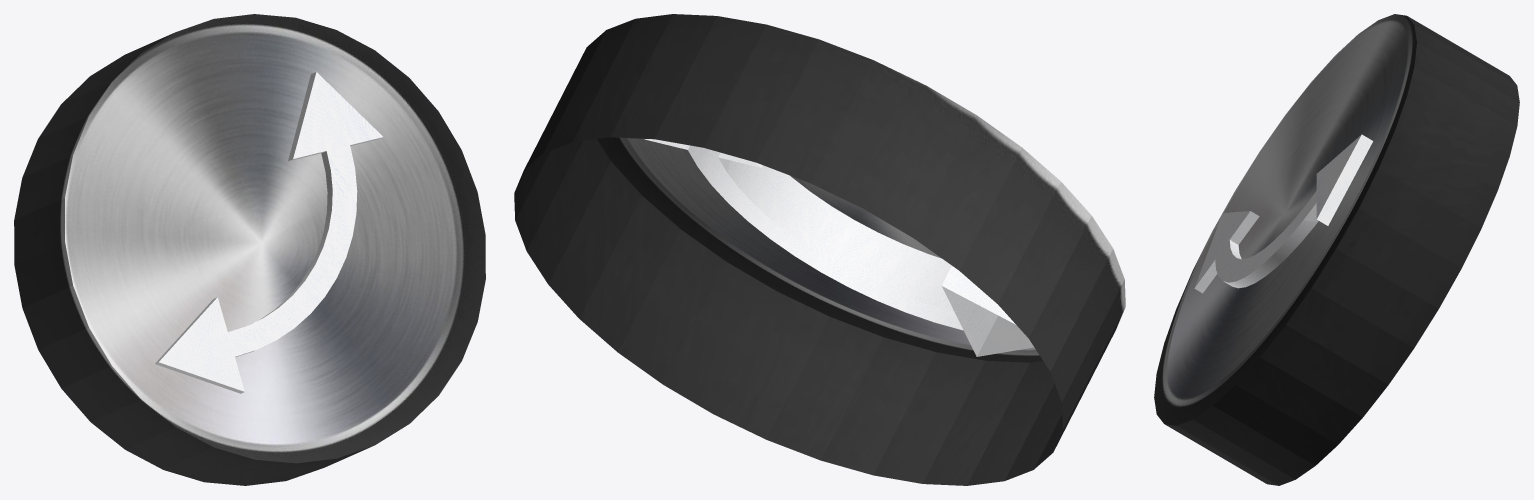
The model's file is Botao_Girar_Esquerda.gltf.
3 views of the same model, side by side, from view 1: azimuth 30°, elevation 25°; view 2: azimuth 150°, elevation 25°; view 3: azimuth 270°, elevation 25° (orthographic). The views are drawn at different scales.
Parts seen in each view (by area): view 1: Circle, instance_1; view 2: Circle, instance_1; view 3: Circle, instance_1.
Boxes of the visible parts, left/top/right/bottom form: Circle: left=14, top=14, right=485, bottom=485; instance_1: left=155, top=72, right=382, bottom=393; Circle: left=514, top=14, right=1125, bottom=485; instance_1: left=644, top=139, right=1033, bottom=356; Circle: left=1154, top=14, right=1519, bottom=485; instance_1: left=1194, top=134, right=1373, bottom=293.
Size of the model in its own units: 0.2666 by 0.2537 by 0.2013.
3 materials, 1 textured.
